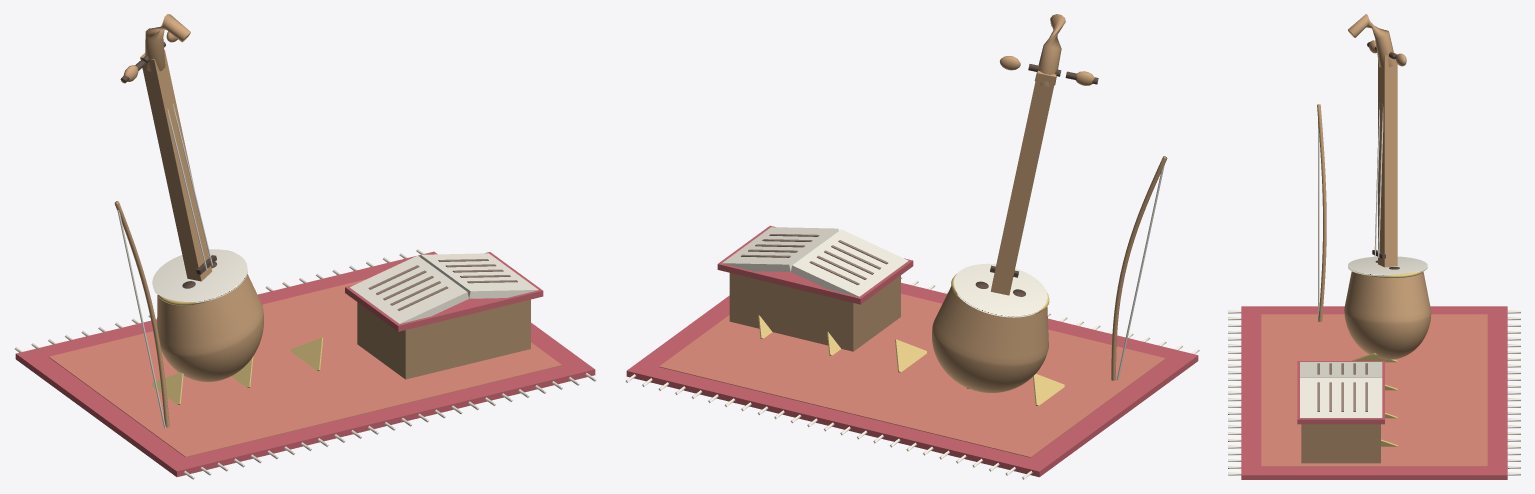
Rendered from zhyr.glb.
3 views of the same model, side by side, from view 1: azimuth 30°, elevation 25°; view 2: azimuth 150°, elevation 25°; view 3: azimuth 270°, elevation 25° (orthographic). The views are drawn at different scales.
Visible parts, largest first — view 1: carpet-field, carpet, stand, body, page (×2), neck, lid, cover, bow, scroll, carpet-orn, hair; view 2: carpet-field, carpet, body, stand, page (×2), neck, lid, cover, bow, carpet-orn (×2), scroll, hair; view 3: carpet-field, carpet, body, page (×2), neck, stand, lid, cover, bow, scroll, hair.
Boxes of the visible parts, x1,y1,x2,y2 form: carpet-field: [49, 279, 562, 457]; carpet: [15, 251, 595, 476]; stand: [357, 299, 530, 379]; body: [157, 274, 263, 381]; page (×2): [349, 253, 538, 323]; neck: [140, 50, 212, 281]; lid: [152, 249, 247, 302]; cover: [345, 252, 543, 331]; bow: [114, 201, 169, 427]; scroll: [145, 14, 190, 71]; carpet-orn: [290, 337, 323, 370]; hair: [116, 202, 165, 428]; carpet-field: [659, 293, 1165, 457]; carpet: [626, 282, 1198, 477]; body: [932, 286, 1048, 392]; stand: [729, 273, 900, 351]; page (×2): [722, 227, 908, 296]; neck: [991, 70, 1056, 295]; lid: [954, 263, 1047, 317]; cover: [717, 225, 913, 304]; bow: [1111, 156, 1167, 380]; carpet-orn (×2): [895, 339, 1064, 405]; scroll: [1034, 14, 1065, 86]; hair: [1116, 157, 1165, 380]; carpet-field: [1261, 314, 1487, 466]; carpet: [1241, 306, 1507, 479]; body: [1344, 271, 1431, 359]; page (×2): [1300, 362, 1382, 418]; neck: [1378, 53, 1397, 267]; stand: [1301, 424, 1380, 463]; lid: [1348, 256, 1427, 276]; cover: [1297, 361, 1384, 424]; bow: [1317, 104, 1326, 321]; scroll: [1348, 14, 1393, 67]; hair: [1318, 104, 1319, 319].
Bounding box in the file's own units: 3.11 × 2.77 × 2.2.
